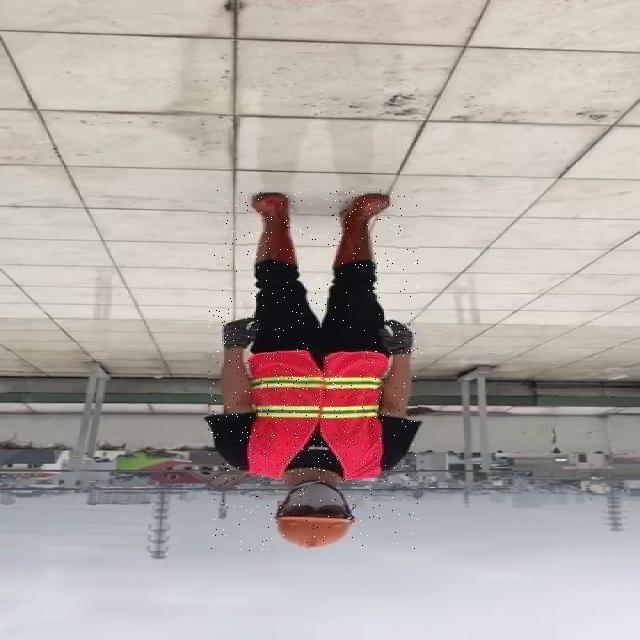Boots: (332, 191, 397, 267), (247, 192, 295, 267)
Gloves: (216, 313, 262, 352), (380, 320, 416, 352)
Helmet: (272, 514, 357, 550)
Vest: (245, 350, 386, 475)
